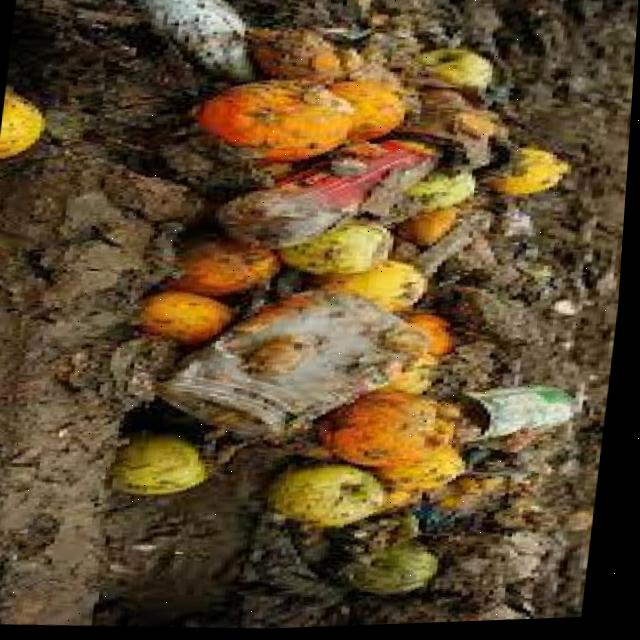Wet: (0, 0, 640, 640), (90, 4, 632, 636)
